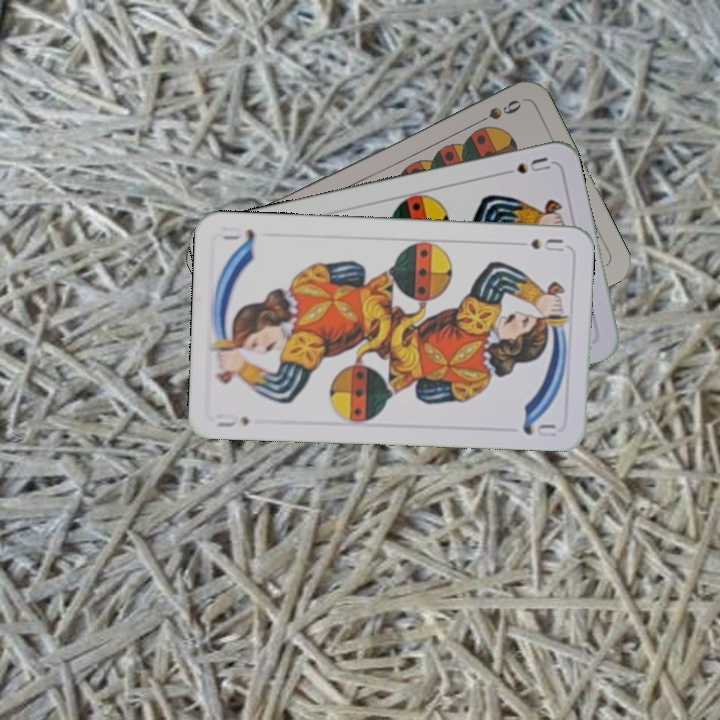S9: (469, 95, 524, 129)
SU: (495, 153, 553, 179), (212, 409, 253, 430), (527, 234, 567, 254)
